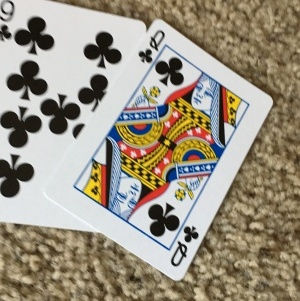card: (52, 19, 274, 282)
